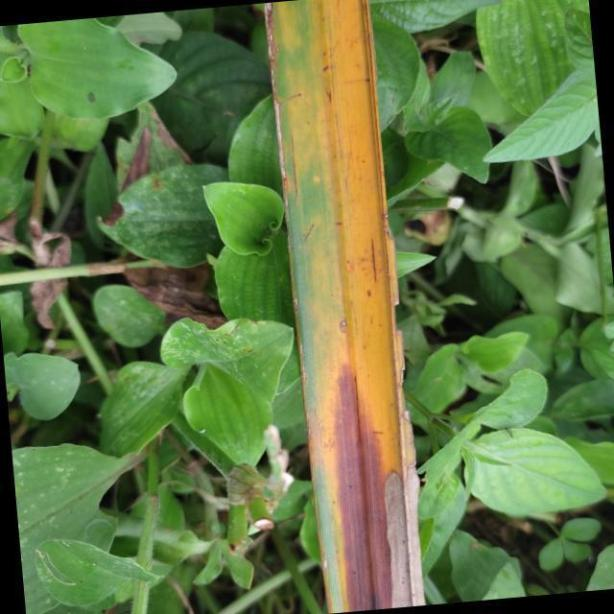Megnesium: (264, 0, 428, 609)
